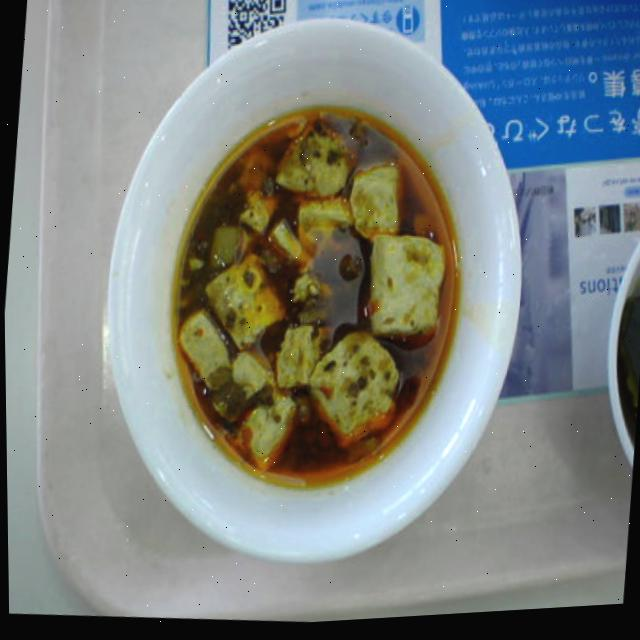豆腐料理: (77, 8, 549, 596)
